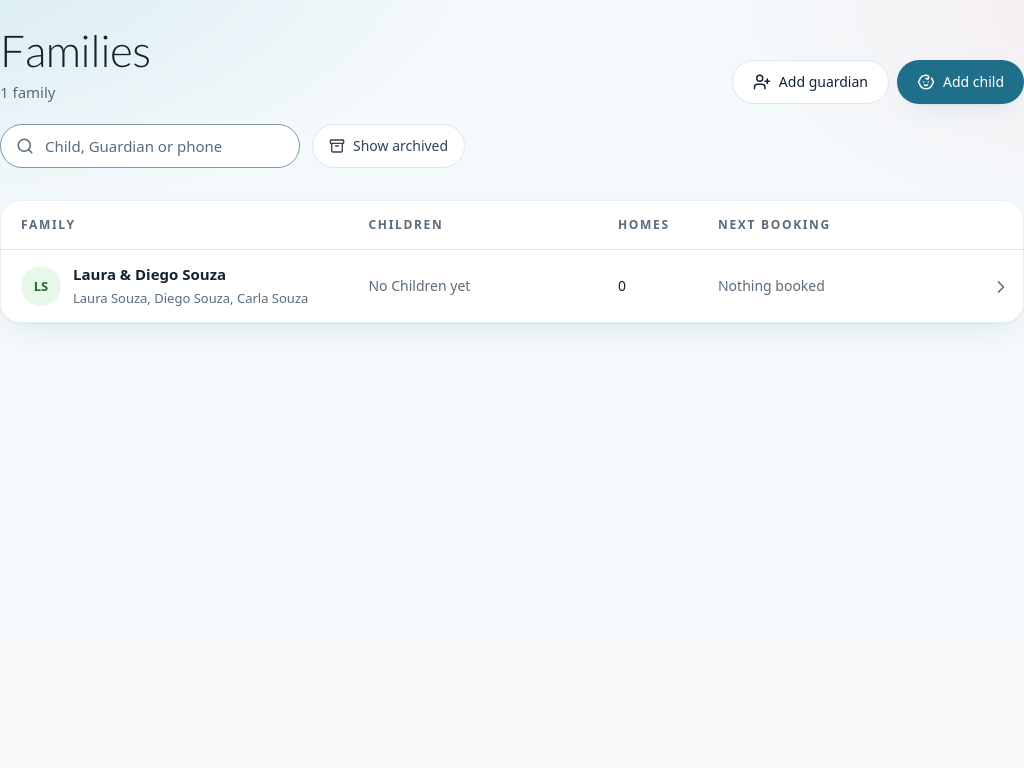
it: Add child from the list › creates the Guardian, then the Child, and opens the family
Click the button "Add child" at x=960, y=82, box [897, 60, 1023, 104]
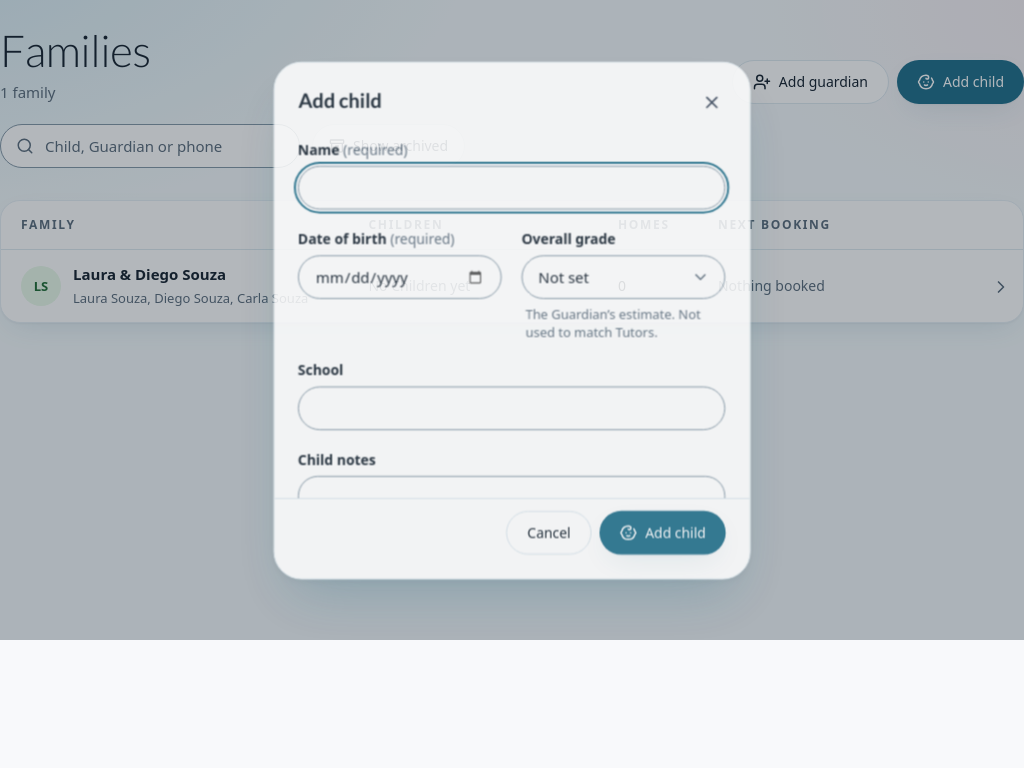
Type "Luca Souza" into the field labelled "Name (required)" at x=512, y=187, box [298, 165, 726, 209]
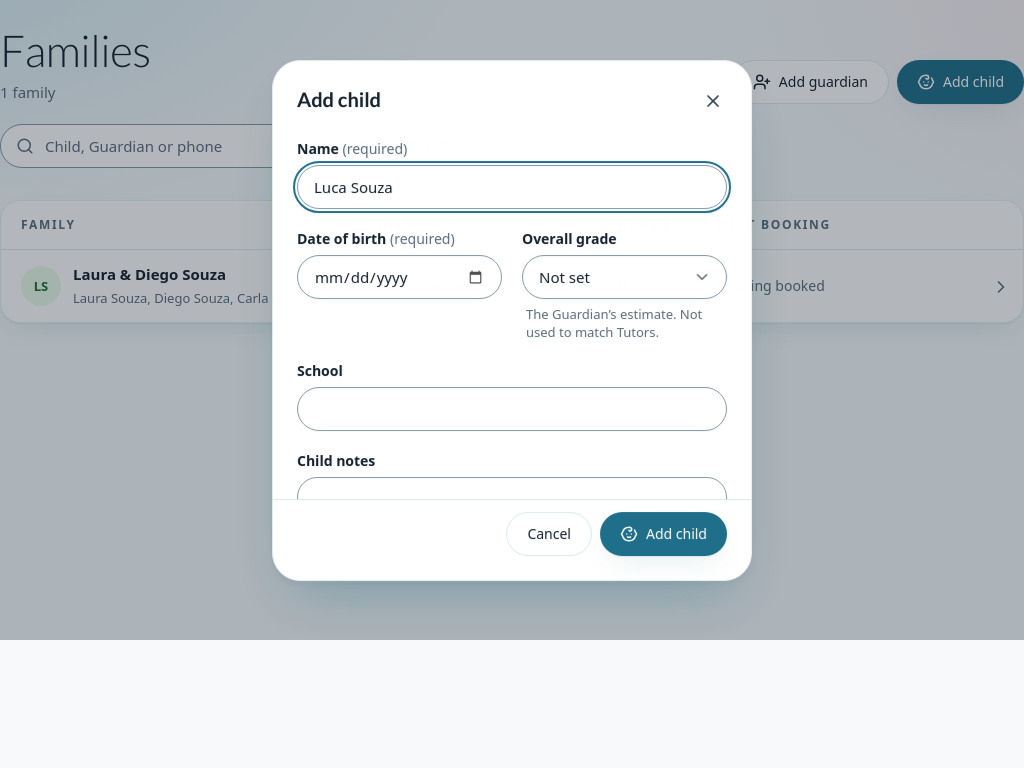
Type "2018-03-04" into the date field labelled "Date of birth (required)" at x=400, y=276, box [297, 254, 502, 298]
(page scrolled)
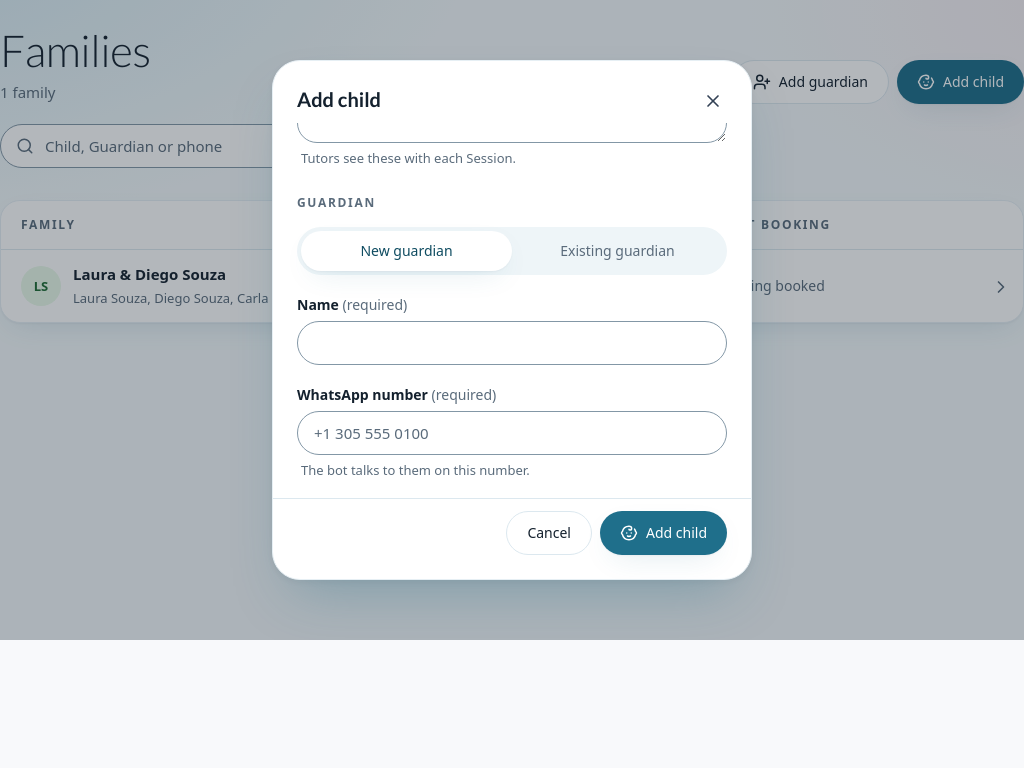
Type "Ana Lima" into the field labelled "Name (required)" at x=512, y=342, box [297, 320, 727, 364]
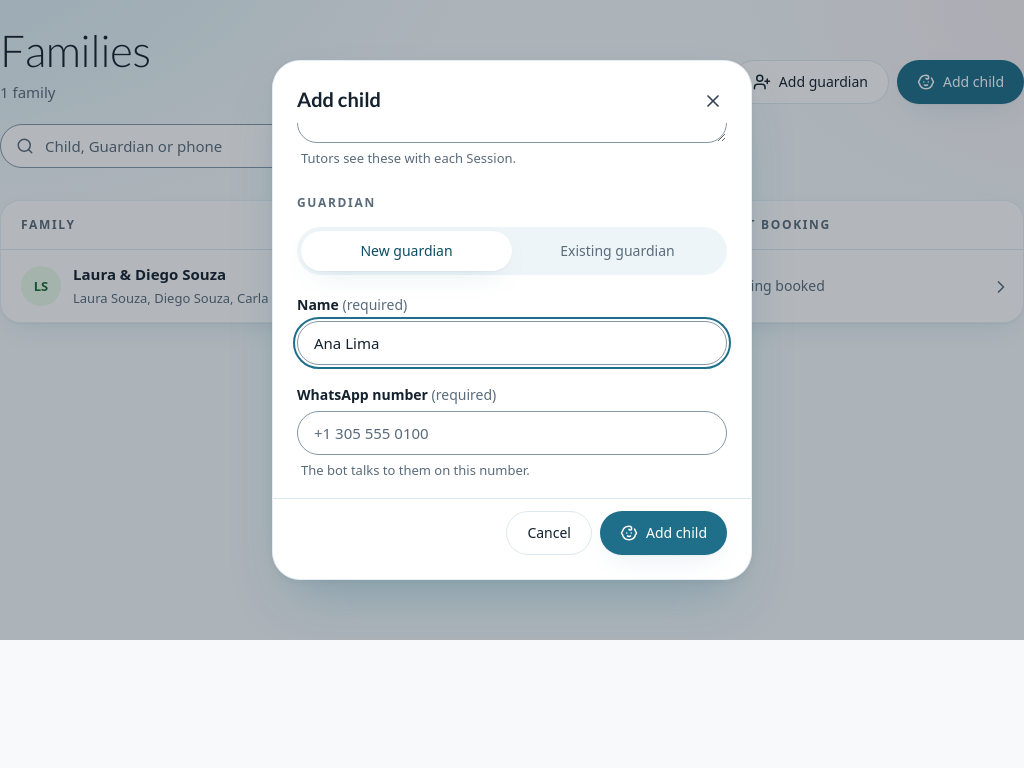
Type "+1 305 555 0199" into the field labelled "WhatsApp number (required)" at x=512, y=432, box [297, 410, 727, 454]
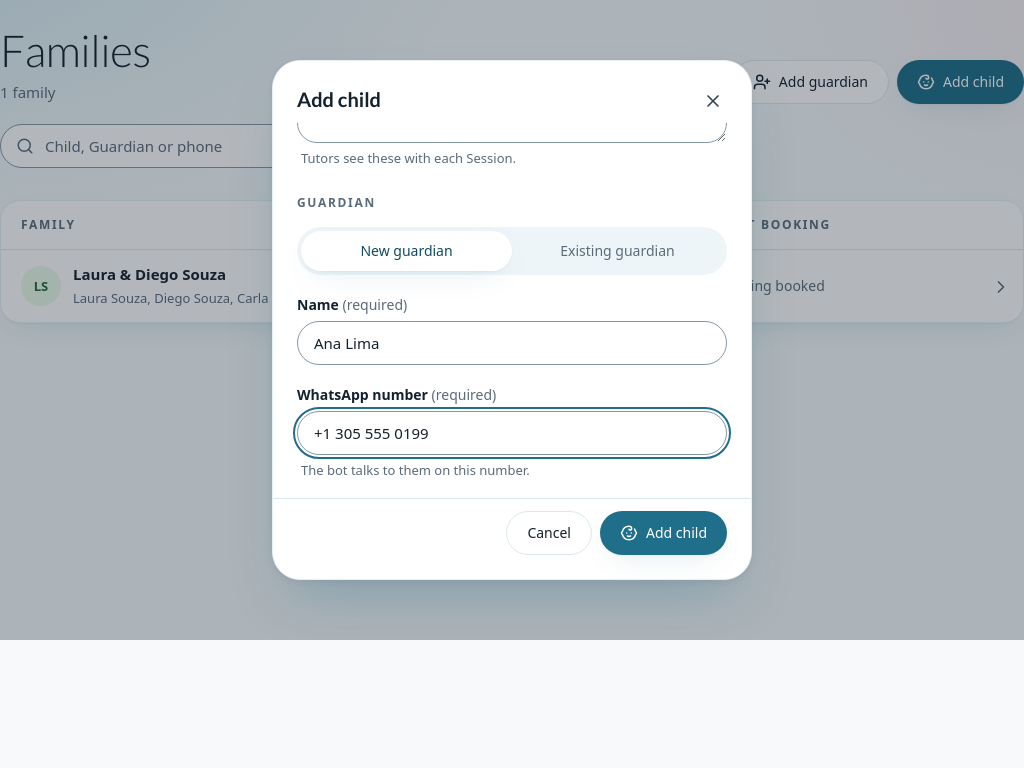
Click the button "Add child" at x=664, y=534, box [600, 512, 727, 556]
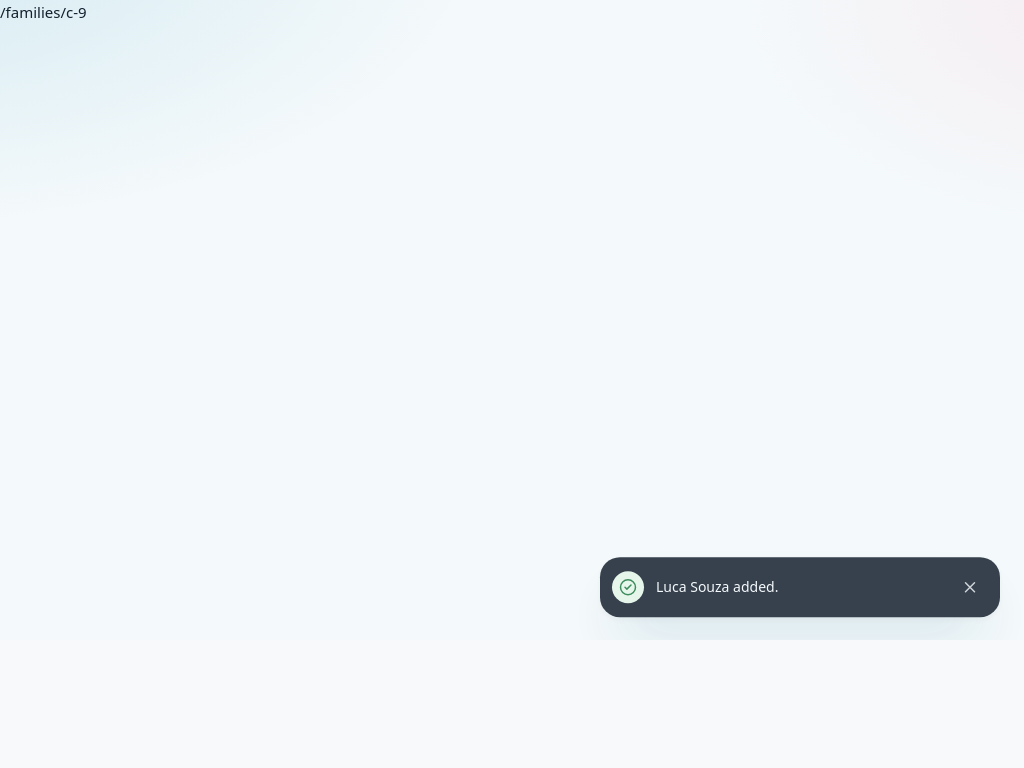
Expected: the text named "Location" reads "/families/c-9", [0, 2, 87, 22]
